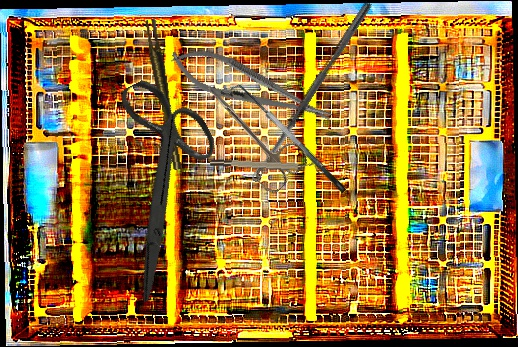Fixation Ring: (210, 152, 323, 176)
Iris Scissors: (53, 63, 266, 303), (186, 70, 313, 197)
Needle Holder: (163, 36, 339, 139)
Spatula Surgical: (228, 76, 348, 203)
Surgical Spoon: (249, 0, 373, 183)
Tissue Forceps: (144, 17, 182, 172)
